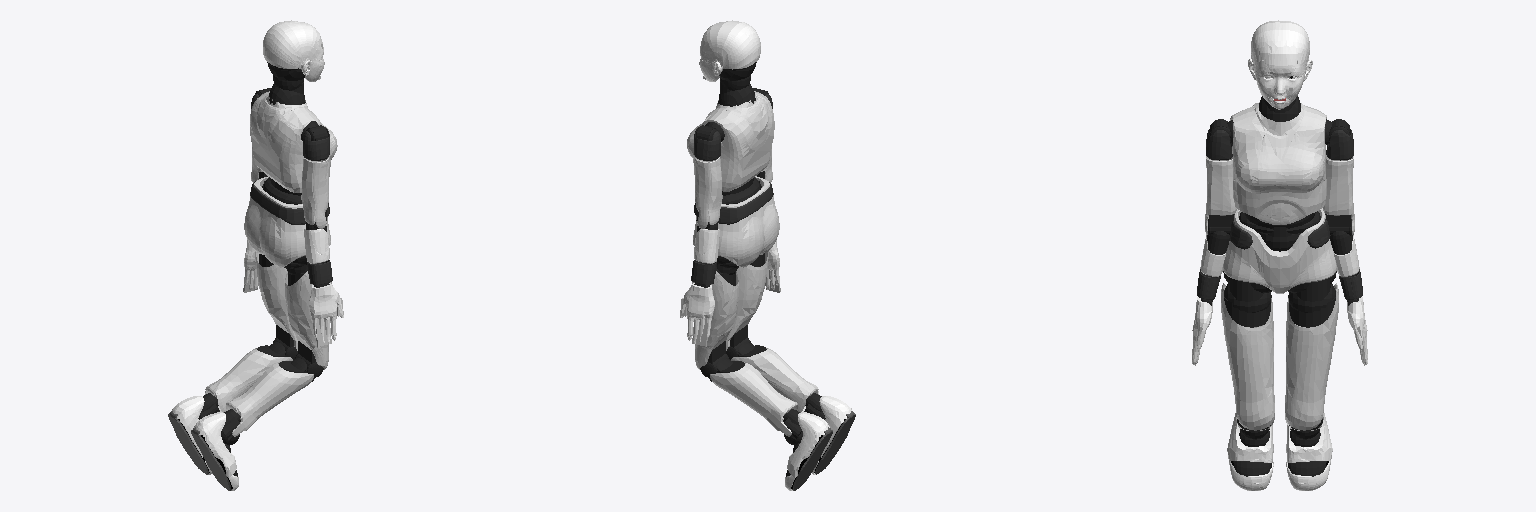
--- Render facts (derived) ---
Views: 3 orthographic renders of the robot side by side, from view 1: azimuth 30°, elevation 25°; view 2: azimuth 150°, elevation 25°; view 3: azimuth 270°, elevation 25°.
Robot: HRP4 — 43 links, 42 joints (42 revolute); root link BODY; default pose: joints at zero except 2 at the middle of their limits (L_KNEE_P = 1.09, R_KNEE_P = 1.09).
Visible links, largest first — view 1: CHEST_Y_LINK, BODY, R_KNEE_P_LINK, NECK_P_LINK, L_KNEE_P_LINK, R_HIP_P_LINK, R_ANKLE_R_LINK, L_HIP_P_LINK, R_SHOULDER_Y_LINK, L_ANKLE_R_LINK, R_WRIST_R_LINK, R_ELBOW_P_LINK (+2 smaller); view 2: CHEST_Y_LINK, BODY, L_KNEE_P_LINK, NECK_P_LINK, R_KNEE_P_LINK, L_HIP_P_LINK, L_ANKLE_R_LINK, R_HIP_P_LINK, L_SHOULDER_Y_LINK, R_ANKLE_R_LINK, L_WRIST_R_LINK, L_ELBOW_P_LINK (+2 smaller); view 3: CHEST_Y_LINK, BODY, L_HIP_P_LINK, R_HIP_P_LINK, NECK_P_LINK, L_ANKLE_R_LINK, R_ANKLE_R_LINK, L_SHOULDER_Y_LINK, R_SHOULDER_Y_LINK, L_ELBOW_P_LINK, R_ELBOW_P_LINK, L_WRIST_R_LINK (+7 smaller).
Link boxes in pixels (x1,y1,x2,y2): CHEST_Y_LINK: (250,84,337,195); BODY: (244,176,330,268); R_KNEE_P_LINK: (221,354,323,440); NECK_P_LINK: (263,20,323,81); L_KNEE_P_LINK: (200,338,297,417); R_HIP_P_LINK: (285,271,331,369); R_ANKLE_R_LINK: (191,412,238,490); L_HIP_P_LINK: (255,251,297,350); R_SHOULDER_Y_LINK: (301,158,328,228); L_ANKLE_R_LINK: (168,396,212,474); R_WRIST_R_LINK: (309,283,343,343); R_ELBOW_P_LINK: (304,222,329,263); CHEST_Y_LINK: (687,84,774,195); BODY: (693,176,779,268); L_KNEE_P_LINK: (700,354,801,440); NECK_P_LINK: (700,20,760,81); R_KNEE_P_LINK: (726,338,824,417); L_HIP_P_LINK: (692,271,738,369); L_ANKLE_R_LINK: (785,412,832,490); R_HIP_P_LINK: (726,251,768,350); L_SHOULDER_Y_LINK: (695,157,722,228); R_ANKLE_R_LINK: (812,396,855,474); L_WRIST_R_LINK: (680,283,714,343); L_ELBOW_P_LINK: (694,222,719,263); CHEST_Y_LINK: (1230,96,1326,228); BODY: (1223,208,1336,293); L_HIP_P_LINK: (1285,283,1338,430); R_HIP_P_LINK: (1221,283,1274,430); NECK_P_LINK: (1248,20,1312,109); L_ANKLE_R_LINK: (1286,413,1332,490); R_ANKLE_R_LINK: (1227,413,1273,490); L_SHOULDER_Y_LINK: (1323,155,1354,235); R_SHOULDER_Y_LINK: (1205,156,1236,235); L_ELBOW_P_LINK: (1330,231,1359,276); R_ELBOW_P_LINK: (1200,231,1229,276); L_WRIST_R_LINK: (1347,297,1367,363).
Bounding box of the posed robot: 0.516 × 0.4768 × 1.52 m (x, y, z).
Meshes: 43 distinct files referenced, 43 mesh visuals loaded (43 Collada DAE).

The robot description file, URDF, robot "HRP4":
<?xml version="1.0"?>
<robot name="HRP4"
       xmlns:xi="http://www.w3.org/2001/XInclude">
  <link name="BODY">
    <visual>
      <origin xyz="0 0 0.784151" rpy="0 -0 0"/>
      <geometry>
        <mesh filename="package://hrp4c_description/meshes/HRP4Cmain/BODY_mesh.dae" scale="1 1 1" />
      </geometry>
    </visual>
    <collision>
      <origin xyz="0 0 0.784151" rpy="0 -0 0"/>
      <geometry>
        <mesh filename="package://hrp4c_description/meshes/HRP4Cmain/BODY_mesh.dae" scale="1 1 1" />
      </geometry>
    </collision>
    <inertial>
      <mass value="7.64947" />
      <origin xyz="-0.0228556 0.00088722 0.141175" rpy="0 -0 0"/>
      <inertia ixx="0.0627264" ixy="-0.00020122" ixz="0.00128172" iyy="0.0309063" iyz="-0.00084433" izz="0.059522"/>
    </inertial>
  </link>
  <gazebo reference="BODY">
    <mu1>0.9</mu1>
    <mu2>0.9</mu2>
  </gazebo>
  <link name="CHEST_P_LINK">
    <visual>
      <origin xyz="0.01 0 0.197" rpy="0 -0 0"/>
      <geometry>
        <mesh filename="package://hrp4c_description/meshes/HRP4Cmain/CHEST_P_LINK_mesh.dae" scale="1 1 1" />
      </geometry>
    </visual>
    <collision>
      <origin xyz="0.01 0 0.197" rpy="0 -0 0"/>
      <geometry>
        <mesh filename="package://hrp4c_description/meshes/HRP4Cmain/CHEST_P_LINK_mesh.dae" scale="1 1 1" />
      </geometry>
    </collision>
    <inertial>
      <mass value="0.60422" />
      <origin xyz="-0.00431692 0.00595121 -0.00052352" rpy="0 -0 0"/>
      <inertia ixx="0.000480067" ixy="-1.508e-05" ixz="-6.5e-07" iyy="0.000307863" iyz="2.39e-06" izz="0.000637985"/>
    </inertial>
  </link>
  <gazebo reference="CHEST_P_LINK">
    <mu1>0.9</mu1>
    <mu2>0.9</mu2>
  </gazebo>
  <link name="CHEST_R_LINK">
    <visual>
      <origin xyz="0 0 0" rpy="0 -0 0"/>
      <geometry>
        <mesh filename="package://hrp4c_description/meshes/HRP4Cmain/CHEST_R_LINK_mesh.dae" scale="1 1 1" />
      </geometry>
    </visual>
    <collision>
      <origin xyz="0 0 0" rpy="0 -0 0"/>
      <geometry>
        <mesh filename="package://hrp4c_description/meshes/HRP4Cmain/CHEST_R_LINK_mesh.dae" scale="1 1 1" />
      </geometry>
    </collision>
    <inertial>
      <mass value="1.17303" />
      <origin xyz="-0.0166766 2e-08 0.0499313" rpy="0 -0 0"/>
      <inertia ixx="0.00156518" ixy="-2.8e-07" ixz="-0.00048566" iyy="0.00238908" iyz="-2.64063e-19" izz="0.00154583"/>
    </inertial>
  </link>
  <gazebo reference="CHEST_R_LINK">
    <mu1>0.9</mu1>
    <mu2>0.9</mu2>
  </gazebo>
  <link name="CHEST_Y_LINK">
    <visual>
      <origin xyz="0 0 0" rpy="0 -0 0"/>
      <geometry>
        <mesh filename="package://hrp4c_description/meshes/HRP4Cmain/CHEST_Y_LINK_mesh.dae" scale="1 1 1" />
      </geometry>
    </visual>
    <collision>
      <origin xyz="0 0 0" rpy="0 -0 0"/>
      <geometry>
        <mesh filename="package://hrp4c_description/meshes/HRP4Cmain/CHEST_Y_LINK_mesh.dae" scale="1 1 1" />
      </geometry>
    </collision>
    <inertial>
      <mass value="7.06687" />
      <origin xyz="-0.0271791 -0.00315907 0.204679" rpy="0 -0 0"/>
      <inertia ixx="0.0667947" ixy="-8.608e-05" ixz="0.00538019" iyy="0.0542495" iyz="-0.00036618" izz="0.0384864"/>
    </inertial>
  </link>
  <gazebo reference="CHEST_Y_LINK">
    <mu1>0.9</mu1>
    <mu2>0.9</mu2>
  </gazebo>
  <link name="L_SHOULDER_P_LINK">
    <visual>
      <origin xyz="-0.04 0.16 0.285" rpy="0 -0 0"/>
      <geometry>
        <mesh filename="package://hrp4c_description/meshes/HRP4Cmain/L_SHOULDER_P_LINK_mesh.dae" scale="1 1 1" />
      </geometry>
    </visual>
    <collision>
      <origin xyz="-0.04 0.16 0.285" rpy="0 -0 0"/>
      <geometry>
        <mesh filename="package://hrp4c_description/meshes/HRP4Cmain/L_SHOULDER_P_LINK_mesh.dae" scale="1 1 1" />
      </geometry>
    </collision>
    <inertial>
      <mass value="0.411823" />
      <origin xyz="0.00162613 -0.0352711 -0.00032585" rpy="0 -0 0"/>
      <inertia ixx="0.000363816" ixy="-8e-08" ixz="5.8e-07" iyy="0.000136285" iyz="-2.99e-06" izz="0.000366957"/>
    </inertial>
  </link>
  <gazebo reference="L_SHOULDER_P_LINK">
    <mu1>0.9</mu1>
    <mu2>0.9</mu2>
  </gazebo>
  <link name="L_SHOULDER_R_LINK">
    <visual>
      <origin xyz="0 0 0" rpy="0 -0 0"/>
      <geometry>
        <mesh filename="package://hrp4c_description/meshes/HRP4Cmain/L_SHOULDER_R_LINK_mesh.dae" scale="1 1 1" />
      </geometry>
    </visual>
    <collision>
      <origin xyz="0 0 0" rpy="0 -0 0"/>
      <geometry>
        <mesh filename="package://hrp4c_description/meshes/HRP4Cmain/L_SHOULDER_R_LINK_mesh.dae" scale="1 1 1" />
      </geometry>
    </collision>
    <inertial>
      <mass value="0.575832" />
      <origin xyz="0.00306386 -0.00168295 -0.0438792" rpy="0 -0 0"/>
      <inertia ixx="0.000623439" ixy="-2.87e-06" ixz="-5.836e-05" iyy="0.000683142" iyz="-2.31e-06" izz="0.00020966"/>
    </inertial>
  </link>
  <gazebo reference="L_SHOULDER_R_LINK">
    <mu1>0.9</mu1>
    <mu2>0.9</mu2>
  </gazebo>
  <link name="L_SHOULDER_Y_LINK">
    <visual>
      <origin xyz="0 0 0" rpy="0 -0 0"/>
      <geometry>
        <mesh filename="package://hrp4c_description/meshes/HRP4Cmain/L_SHOULDER_Y_LINK_mesh.dae" scale="1 1 1" />
      </geometry>
    </visual>
    <collision>
      <origin xyz="0 0 0" rpy="0 -0 0"/>
      <geometry>
        <mesh filename="package://hrp4c_description/meshes/HRP4Cmain/L_SHOULDER_Y_LINK_mesh.dae" scale="1 1 1" />
      </geometry>
    </collision>
    <inertial>
      <mass value="1.21844" />
      <origin xyz="-0.00133297 -0.0019273 -0.175796" rpy="0 -0 0"/>
      <inertia ixx="0.00633968" ixy="3.82e-06" ixz="-8.525e-05" iyy="0.00635143" iyz="-0.00019039" izz="0.000633883"/>
    </inertial>
  </link>
  <gazebo reference="L_SHOULDER_Y_LINK">
    <mu1>0.9</mu1>
    <mu2>0.9</mu2>
  </gazebo>
  <link name="L_ELBOW_P_LINK">
    <visual>
      <origin xyz="0 0 -0.283" rpy="0 -0 0"/>
      <geometry>
        <mesh filename="package://hrp4c_description/meshes/HRP4Cmain/L_ELBOW_P_LINK_mesh.dae" scale="1 1 1" />
      </geometry>
    </visual>
    <collision>
      <origin xyz="0 0 -0.283" rpy="0 -0 0"/>
      <geometry>
        <mesh filename="package://hrp4c_description/meshes/HRP4Cmain/L_ELBOW_P_LINK_mesh.dae" scale="1 1 1" />
      </geometry>
    </collision>
    <inertial>
      <mass value="0.338109" />
      <origin xyz="-0.00201792 0.0115728 -0.0651161" rpy="0 -0 0"/>
      <inertia ixx="0.00101444" ixy="1.4e-06" ixz="-7.63e-06" iyy="0.00101444" iyz="0.00011293" izz="0.000110737"/>
    </inertial>
  </link>
  <gazebo reference="L_ELBOW_P_LINK">
    <mu1>0.9</mu1>
    <mu2>0.9</mu2>
  </gazebo>
  <link name="L_WRIST_Y_LINK">
    <visual>
      <origin xyz="0 0 0" rpy="0.174533 -0 0"/>
      <geometry>
        <mesh filename="package://hrp4c_description/meshes/HRP4Cmain/L_WRIST_Y_LINK_mesh.dae" scale="1 1 1" />
      </geometry>
    </visual>
    <collision>
      <origin xyz="0 0 0" rpy="0.174533 -0 0"/>
      <geometry>
        <mesh filename="package://hrp4c_description/meshes/HRP4Cmain/L_WRIST_Y_LINK_mesh.dae" scale="1 1 1" />
      </geometry>
    </collision>
    <inertial>
      <mass value="0.217653" />
      <origin xyz="-0.00746639 4.7e-06 -0.187222" rpy="0 -0 0"/>
      <inertia ixx="0.00013353" ixy="3e-08" ixz="1.088e-05" iyy="0.00016335" iyz="1.3e-07" izz="5.586e-05"/>
    </inertial>
  </link>
  <gazebo reference="L_WRIST_Y_LINK">
    <mu1>0.9</mu1>
    <mu2>0.9</mu2>
  </gazebo>
  <link name="L_WRIST_R_LINK">
    <visual>
      <origin xyz="0 0 -0.222445" rpy="0 -0 0"/>
      <geometry>
        <mesh filename="package://hrp4c_description/meshes/HRP4Cmain/L_WRIST_R_LINK_mesh.dae" scale="1 1 1" />
      </geometry>
    </visual>
    <collision>
      <origin xyz="0 0 -0.222445" rpy="0 -0 0"/>
      <geometry>
        <mesh filename="package://hrp4c_description/meshes/HRP4Cmain/L_WRIST_R_LINK_mesh.dae" scale="1 1 1" />
      </geometry>
    </collision>
    <inertial>
      <mass value="0.0134204" />
      <origin xyz="0.0039155 3e-08 -0.0027439" rpy="0 -0 0"/>
      <inertia ixx="-2.18376e-22" ixy="-3.83884e-22" ixz="1.4e-07" iyy="3.1e-07" iyz="2.14807e-22" izz="2.1e-07"/>
    </inertial>
  </link>
  <gazebo reference="L_WRIST_R_LINK">
    <mu1>0.9</mu1>
    <mu2>0.9</mu2>
  </gazebo>
  <link name="L_HAND_J0_LINK">
    <visual>
      <origin xyz="0.025 0.0046 -0.0526" rpy="0 -0 0"/>
      <geometry>
        <mesh filename="package://hrp4c_description/meshes/HRP4Cmain/L_HAND_J0_LINK_mesh.dae" scale="1 1 1" />
      </geometry>
    </visual>
    <collision>
      <origin xyz="0.025 0.0046 -0.0526" rpy="0 -0 0"/>
      <geometry>
        <mesh filename="package://hrp4c_description/meshes/HRP4Cmain/L_HAND_J0_LINK_mesh.dae" scale="1 1 1" />
      </geometry>
    </collision>
    <inertial>
      <mass value="0.0894" />
      <origin xyz="-0.033 -2.77556e-17 -0.02" rpy="0 -0 0"/>
      <inertia ixx="3.576e-05" ixy="5.1726e-20" ixz="-5.9e-05" iyy="0.00013312" iyz="-8.98065e-25" izz="9.736e-05"/>
    </inertial>
  </link>
  <gazebo reference="L_HAND_J0_LINK">
    <mu1>0.9</mu1>
    <mu2>0.9</mu2>
  </gazebo>
  <link name="L_HAND_J1_LINK">
    <visual>
      <origin xyz="-0.009 0 -0.0959" rpy="0 -0 0"/>
      <geometry>
        <mesh filename="package://hrp4c_description/meshes/HRP4Cmain/L_HAND_J1_LINK_mesh.dae" scale="1 1 1" />
      </geometry>
    </visual>
    <collision>
      <origin xyz="-0.009 0 -0.0959" rpy="0 -0 0"/>
      <geometry>
        <mesh filename="package://hrp4c_description/meshes/HRP4Cmain/L_HAND_J1_LINK_mesh.dae" scale="1 1 1" />
      </geometry>
    </collision>
    <inertial>
      <mass value="0.3576" />
      <origin xyz="-0.017 0 -0.062" rpy="0 -0 0"/>
      <inertia ixx="0.00137461" ixy="7.91223e-20" ixz="-0.00037691" iyy="0.00147796" iyz="6.3465e-19" izz="0.00010335"/>
    </inertial>
  </link>
  <gazebo reference="L_HAND_J1_LINK">
    <mu1>0.9</mu1>
    <mu2>0.9</mu2>
  </gazebo>
  <link name="NECK_Y_LINK">
    <visual>
      <origin xyz="-0.04 0 0.434" rpy="0 -0 0"/>
      <geometry>
        <mesh filename="package://hrp4c_description/meshes/HRP4Cmain/NECK_Y_LINK_mesh.dae" scale="1 1 1" />
      </geometry>
    </visual>
    <collision>
      <origin xyz="-0.04 0 0.434" rpy="0 -0 0"/>
      <geometry>
        <mesh filename="package://hrp4c_description/meshes/HRP4Cmain/NECK_Y_LINK_mesh.dae" scale="1 1 1" />
      </geometry>
    </collision>
    <inertial>
      <mass value="0.339107" />
      <origin xyz="-0.00096033 0.00755251 -0.0459711" rpy="0 -0 0"/>
      <inertia ixx="0.00017816" ixy="5.06e-06" ixz="-5.63e-06" iyy="0.00018286" iyz="-1.05e-06" izz="0.00017778"/>
    </inertial>
  </link>
  <gazebo reference="NECK_Y_LINK">
    <mu1>0.9</mu1>
    <mu2>0.9</mu2>
  </gazebo>
  <link name="NECK_R_LINK">
    <visual>
      <origin xyz="0 0 0" rpy="0 -0 0"/>
      <geometry>
        <mesh filename="package://hrp4c_description/meshes/HRP4Cmain/NECK_R_LINK_mesh.dae" scale="1 1 1" />
      </geometry>
    </visual>
    <collision>
      <origin xyz="0 0 0" rpy="0 -0 0"/>
      <geometry>
        <mesh filename="package://hrp4c_description/meshes/HRP4Cmain/NECK_R_LINK_mesh.dae" scale="1 1 1" />
      </geometry>
    </collision>
    <inertial>
      <mass value="0.248472" />
      <origin xyz="-0.00874639 0.00266105 -9.1e-07" rpy="0 -0 0"/>
      <inertia ixx="4.275e-05" ixy="5.79e-06" ixz="-4.1359e-24" iyy="9.459e-05" iyz="1e-08" izz="0.00010951"/>
    </inertial>
  </link>
  <gazebo reference="NECK_R_LINK">
    <mu1>0.9</mu1>
    <mu2>0.9</mu2>
  </gazebo>
  <link name="NECK_P_LINK">
    <visual>
      <origin xyz="0 0 0" rpy="0 -0 0"/>
      <geometry>
        <mesh filename="package://hrp4c_description/meshes/HRP4Cmain/NECK_P_LINK_mesh.dae" scale="1 1 1" />
      </geometry>
    </visual>
    <collision>
      <origin xyz="0 0 0" rpy="0 -0 0"/>
      <geometry>
        <mesh filename="package://hrp4c_description/meshes/HRP4Cmain/NECK_P_LINK_mesh.dae" scale="1 1 1" />
      </geometry>
    </collision>
    <inertial>
      <mass value="0.0201469" />
      <origin xyz="-0.00165369 -0.00587094 0.0161225" rpy="0 -0 0"/>
      <inertia ixx="7.45e-06" ixy="1.2e-07" ixz="2.5e-07" iyy="3.96e-06" iyz="-1.33e-06" izz="4.76e-06"/>
    </inertial>
  </link>
  <gazebo reference="NECK_P_LINK">
    <mu1>0.9</mu1>
    <mu2>0.9</mu2>
  </gazebo>
  <link name="CHEEK_P_LINK">
    <visual>
      <origin xyz="-0.0265164 0 0.0255761" rpy="0 -0 0"/>
      <geometry>
        <mesh filename="package://hrp4c_description/meshes/HRP4Cmain/CHEEK_P_LINK_mesh.dae" scale="1 1 1" />
      </geometry>
    </visual>
    <collision>
      <origin xyz="-0.0265164 0 0.0255761" rpy="0 -0 0"/>
      <geometry>
        <mesh filename="package://hrp4c_description/meshes/HRP4Cmain/CHEEK_P_LINK_mesh.dae" scale="1 1 1" />
      </geometry>
    </collision>
    <inertial>
      <mass value="0.3735" />
      <origin xyz="0.06 0 0.012" rpy="0 -0 0"/>
      <inertia ixx="5.378e-05" ixy="-4.65755e-19" ixz="-0.00026892" iyy="0.00139838" iyz="-2.51229e-25" izz="0.0013446"/>
    </inertial>
  </link>
  <gazebo reference="CHEEK_P_LINK">
    <mu1>0.9</mu1>
    <mu2>0.9</mu2>
  </gazebo>
  <link name="EYEBROW_P_LINK">
    <visual>
      <origin xyz="-0.0357313 0 0.0900806" rpy="0 -0 0"/>
      <geometry>
        <mesh filename="package://hrp4c_description/meshes/HRP4Cmain/EYEBROW_P_LINK_mesh.dae" scale="1 1 1" />
      </geometry>
    </visual>
    <collision>
      <origin xyz="-0.0357313 0 0.0900806" rpy="0 -0 0"/>
      <geometry>
        <mesh filename="package://hrp4c_description/meshes/HRP4Cmain/EYEBROW_P_LINK_mesh.dae" scale="1 1 1" />
      </geometry>
    </collision>
    <inertial>
      <mass value="0.3735" />
      <origin xyz="0.108 0 0.009" rpy="0 -0 0"/>
      <inertia ixx="3.025e-05" ixy="-6.08786e-19" ixz="-0.00036304" iyy="0.00438676" iyz="-3.65615e-26" izz="0.0043565"/>
    </inertial>
  </link>
  <gazebo reference="EYEBROW_P_LINK">
    <mu1>0.9</mu1>
    <mu2>0.9</mu2>
  </gazebo>
  <link name="EYELID_P_LINK">
    <visual>
      <origin xyz="0.082 0.0315 0.0596149" rpy="0 -0 0"/>
      <geometry>
        <mesh filename="package://hrp4c_description/meshes/HRP4Cmain/EYELID_P_LINK_mesh.dae" scale="1 1 1" />
      </geometry>
    </visual>
    <collision>
      <origin xyz="0.082 0.0315 0.0596149" rpy="0 -0 0"/>
      <geometry>
        <mesh filename="package://hrp4c_description/meshes/HRP4Cmain/EYELID_P_LINK_mesh.dae" scale="1 1 1" />
      </geometry>
    </collision>
    <inertial>
      <mass value="0.3735" />
      <origin xyz="0.012 0 -0.021" rpy="0 -0 0"/>
      <inertia ixx="0.00016471" ixy="0" ixz="9.412e-05" iyy="0.0002185" iyz="0" izz="5.378e-05"/>
    </inertial>
  </link>
  <gazebo reference="EYELID_P_LINK">
    <mu1>0.9</mu1>
    <mu2>0.9</mu2>
  </gazebo>
  <link name="EYE_P_LINK">
    <visual>
      <origin xyz="0.0816179 0.0315 0.0596149" rpy="0 -0 0"/>
      <geometry>
        <mesh filename="package://hrp4c_description/meshes/HRP4Cmain/EYE_P_LINK_mesh.dae" scale="1 1 1" />
      </geometry>
    </visual>
    <collision>
      <origin xyz="0.0816179 0.0315 0.0596149" rpy="0 -0 0"/>
      <geometry>
        <mesh filename="package://hrp4c_description/meshes/HRP4Cmain/EYE_P_LINK_mesh.dae" scale="1 1 1" />
      </geometry>
    </collision>
    <inertial>
      <mass value="0.3735" />
      <origin xyz="0.021 0 0" rpy="0 -0 0"/>
      <inertia ixx="0" ixy="0" ixz="0" iyy="0.00016471" iyz="0" izz="0.00016471"/>
    </inertial>
  </link>
  <gazebo reference="EYE_P_LINK">
    <mu1>0.9</mu1>
    <mu2>0.9</mu2>
  </gazebo>
  <link name="EYE_Y_LINK">
    <visual>
      <origin xyz="0 0 0" rpy="0 -0 0"/>
      <geometry>
        <mesh filename="package://hrp4c_description/meshes/HRP4Cmain/EYE_Y_LINK_mesh.dae" scale="1 1 1" />
      </geometry>
    </visual>
    <collision>
      <origin xyz="0 0 0" rpy="0 -0 0"/>
      <geometry>
        <mesh filename="package://hrp4c_description/meshes/HRP4Cmain/EYE_Y_LINK_mesh.dae" scale="1 1 1" />
      </geometry>
    </collision>
    <inertial>
      <mass value="0.3735" />
      <origin xyz="0.021 0 0" rpy="0 -0 0"/>
      <inertia ixx="0" ixy="0" ixz="0" iyy="0.00016471" iyz="0" izz="0.00016471"/>
    </inertial>
  </link>
  <gazebo reference="EYE_Y_LINK">
    <mu1>0.9</mu1>
    <mu2>0.9</mu2>
  </gazebo>
  <link name="MOUTH_P_LINK">
    <visual>
      <origin xyz="0.0389284 0 0.00507761" rpy="0 -0 0"/>
      <geometry>
        <mesh filename="package://hrp4c_description/meshes/HRP4Cmain/MOUTH_P_LINK_mesh.dae" scale="1 1 1" />
      </geometry>
    </visual>
    <collision>
      <origin xyz="0.0389284 0 0.00507761" rpy="0 -0 0"/>
      <geometry>
        <mesh filename="package://hrp4c_description/meshes/HRP4Cmain/MOUTH_P_LINK_mesh.dae" scale="1 1 1" />
      </geometry>
    </collision>
    <inertial>
      <mass value="0.3735" />
      <origin xyz="0.057 0 -0.027" rpy="0 -0 0"/>
      <inertia ixx="0.00027228" ixy="9.19116e-19" ixz="0.00057482" iyy="0.00148578" iyz="-3.14032e-19" izz="0.0012135"/>
    </inertial>
  </link>
  <gazebo reference="MOUTH_P_LINK">
    <mu1>0.9</mu1>
    <mu2>0.9</mu2>
  </gazebo>
  <link name="LOWERLIP_P_LINK">
    <visual>
      <origin xyz="0.0573582 0 -0.0274567" rpy="0 -0 0"/>
      <geometry>
        <mesh filename="package://hrp4c_description/meshes/HRP4Cmain/LOWERLIP_P_LINK_mesh.dae" scale="1 1 1" />
      </geometry>
    </visual>
    <collision>
      <origin xyz="0.0573582 0 -0.0274567" rpy="0 -0 0"/>
      <geometry>
        <mesh filename="package://hrp4c_description/meshes/HRP4Cmain/LOWERLIP_P_LINK_mesh.dae" scale="1 1 1" />
      </geometry>
    </collision>
    <inertial>
      <mass value="0.3735" />
      <origin xyz="0.009 0 0.012" rpy="0 -0 0"/>
      <inertia ixx="5.378e-05" ixy="3.32816e-18" ixz="-0.00040338" iyy="0.00307913" iyz="1.36141e-18" izz="0.00302535"/>
    </inertial>
  </link>
  <gazebo reference="LOWERLIP_P_LINK">
    <mu1>0.9</mu1>
    <mu2>0.9</mu2>
  </gazebo>
  <link name="UPPERLIP_P_LINK">
    <visual>
      <origin xyz="0.102 0 0.012" rpy="0 -0 0"/>
      <geometry>
        <mesh filename="package://hrp4c_description/meshes/HRP4Cmain/UPPERLIP_P_LINK_mesh.dae" scale="1 1 1" />
      </geometry>
    </visual>
    <collision>
      <origin xyz="0.102 0 0.012" rpy="0 -0 0"/>
      <geometry>
        <mesh filename="package://hrp4c_description/meshes/HRP4Cmain/UPPERLIP_P_LINK_mesh.dae" scale="1 1 1" />
      </geometry>
    </collision>
    <inertial>
      <mass value="0.3735" />
      <origin xyz="0.009 0 -0.012" rpy="0 -0 0"/>
      <inertia ixx="5.378e-05" ixy="-2.51934e-20" ixz="4.034e-05" iyy="8.404e-05" iyz="4.75879e-20" izz="3.025e-05"/>
    </inertial>
  </link>
  <gazebo reference="UPPERLIP_P_LINK">
    <mu1>0.9</mu1>
    <mu2>0.9</mu2>
  </gazebo>
  <link name="R_SHOULDER_P_LINK">
    <visual>
      <origin xyz="-0.04 -0.16 0.285" rpy="0 -0 0"/>
      <geometry>
        <mesh filename="package://hrp4c_description/meshes/HRP4Cmain/R_SHOULDER_P_LINK_mesh.dae" scale="1 1 1" />
      </geometry>
    </visual>
    <collision>
      <origin xyz="-0.04 -0.16 0.285" rpy="0 -0 0"/>
      <geometry>
        <mesh filename="package://hrp4c_description/meshes/HRP4Cmain/R_SHOULDER_P_LINK_mesh.dae" scale="1 1 1" />
      </geometry>
    </collision>
    <inertial>
      <mass value="0.41205" />
      <origin xyz="0.00162613 0.0352711 0.00032585" rpy="0 -0 0"/>
      <inertia ixx="0.000364016" ixy="8e-08" ixz="-5.8e-07" iyy="0.00013636" iyz="-2.99e-06" izz="0.000367159"/>
    </inertial>
  </link>
  <gazebo reference="R_SHOULDER_P_LINK">
    <mu1>0.9</mu1>
    <mu2>0.9</mu2>
  </gazebo>
  <link name="R_SHOULDER_R_LINK">
    <visual>
      <origin xyz="0 0 0" rpy="0 -0 0"/>
      <geometry>
        <mesh filename="package://hrp4c_description/meshes/HRP4Cmain/R_SHOULDER_R_LINK_mesh.dae" scale="1 1 1" />
      </geometry>
    </visual>
    <collision>
      <origin xyz="0 0 0" rpy="0 -0 0"/>
      <geometry>
        <mesh filename="package://hrp4c_description/meshes/HRP4Cmain/R_SHOULDER_R_LINK_mesh.dae" scale="1 1 1" />
      </geometry>
    </collision>
    <inertial>
      <mass value="0.578106" />
      <origin xyz="0.00306386 -0.00168295 -0.0438792" rpy="0 -0 0"/>
      <inertia ixx="0.0006259" ixy="-2.87e-06" ixz="-5.836e-05" iyy="0.000685839" iyz="-2.31e-06" izz="0.000210487"/>
    </inertial>
  </link>
  <gazebo reference="R_SHOULDER_R_LINK">
    <mu1>0.9</mu1>
    <mu2>0.9</mu2>
  </gazebo>
  <link name="R_SHOULDER_Y_LINK">
    <visual>
      <origin xyz="0 0 0" rpy="0 -0 0"/>
      <geometry>
        <mesh filename="package://hrp4c_description/meshes/HRP4Cmain/R_SHOULDER_Y_LINK_mesh.dae" scale="1 1 1" />
      </geometry>
    </visual>
    <collision>
      <origin xyz="0 0 0" rpy="0 -0 0"/>
      <geometry>
        <mesh filename="package://hrp4c_description/meshes/HRP4Cmain/R_SHOULDER_Y_LINK_mesh.dae" scale="1 1 1" />
      </geometry>
    </collision>
    <inertial>
      <mass value="1.20104" />
      <origin xyz="-0.00133297 -0.0019273 -0.175796" rpy="0 -0 0"/>
      <inertia ixx="0.00624912" ixy="3.82e-06" ixz="-8.525e-05" iyy="0.0062607" iyz="-0.00019039" izz="0.000624828"/>
    </inertial>
  </link>
  <gazebo reference="R_SHOULDER_Y_LINK">
    <mu1>0.9</mu1>
    <mu2>0.9</mu2>
  </gazebo>
  <link name="R_ELBOW_P_LINK">
    <visual>
      <origin xyz="0 0 -0.283" rpy="0 -0 0"/>
      <geometry>
        <mesh filename="package://hrp4c_description/meshes/HRP4Cmain/R_ELBOW_P_LINK_mesh.dae" scale="1 1 1" />
      </geometry>
    </visual>
    <collision>
      <origin xyz="0 0 -0.283" rpy="0 -0 0"/>
      <geometry>
        <mesh filename="package://hrp4c_description/meshes/HRP4Cmain/R_ELBOW_P_LINK_mesh.dae" scale="1 1 1" />
      </geometry>
    </collision>
    <inertial>
      <mass value="0.347514" />
      <origin xyz="-0.00193431 -0.010183 -0.0650965" rpy="0 -0 0"/>
      <inertia ixx="0.00105405" ixy="-1.46e-06" ixz="-7.2e-06" iyy="0.00104137" iyz="-0.00013652" izz="0.000126153"/>
    </inertial>
  </link>
  <gazebo reference="R_ELBOW_P_LINK">
    <mu1>0.9</mu1>
    <mu2>0.9</mu2>
  </gazebo>
  <link name="R_WRIST_Y_LINK">
    <visual>
      <origin xyz="0 0 0" rpy="-0.174533 0 0"/>
      <geometry>
        <mesh filename="package://hrp4c_description/meshes/HRP4Cmain/R_WRIST_Y_LINK_mesh.dae" scale="1 1 1" />
      </geometry>
    </visual>
    <collision>
      <origin xyz="0 0 0" rpy="-0.174533 0 0"/>
      <geometry>
        <mesh filename="package://hrp4c_description/meshes/HRP4Cmain/R_WRIST_Y_LINK_mesh.dae" scale="1 1 1" />
      </geometry>
    </collision>
    <inertial>
      <mass value="0.271653" />
      <origin xyz="-0.00746639 4.7e-06 -0.187222" rpy="0 -0 0"/>
      <inertia ixx="0.000166659" ixy="3e-08" ixz="1.088e-05" iyy="0.000199809" iyz="1.3e-07" izz="7.37877e-05"/>
    </inertial>
  </link>
  <gazebo reference="R_WRIST_Y_LINK">
    <mu1>0.9</mu1>
    <mu2>0.9</mu2>
  </gazebo>
  <link name="R_WRIST_R_LINK">
    <visual>
      <origin xyz="0 0 -0.222445" rpy="0 -0 0"/>
      <geometry>
        <mesh filename="package://hrp4c_description/meshes/HRP4Cmain/R_WRIST_R_LINK_mesh.dae" scale="1 1 1" />
      </geometry>
    </visual>
    <collision>
      <origin xyz="0 0 -0.222445" rpy="0 -0 0"/>
      <geometry>
        <mesh filename="package://hrp4c_description/meshes/HRP4Cmain/R_WRIST_R_LINK_mesh.dae" scale="1 1 1" />
      </geometry>
    </collision>
    <inertial>
      <mass value="0.0134204" />
      <origin xyz="0.0039155 3e-08 -0.0027439" rpy="0 -0 0"/>
      <inertia ixx="-2.24993e-22" ixy="-3.72143e-22" ixz="1.4e-07" iyy="3.1e-07" iyz="2.2977e-22" izz="2.1e-07"/>
    </inertial>
  </link>
  <gazebo reference="R_WRIST_R_LINK">
    <mu1>0.9</mu1>
    <mu2>0.9</mu2>
  </gazebo>
  <link name="R_HAND_J0_LINK">
    <visual>
      <origin xyz="0.025 -0.0046 -0.0526" rpy="0 -0 0"/>
      <geometry>
        <mesh filename="package://hrp4c_description/meshes/HRP4Cmain/R_HAND_J0_LINK_mesh.dae" scale="1 1 1" />
      </geometry>
    </visual>
    <collision>
      <origin xyz="0.025 -0.0046 -0.0526" rpy="0 -0 0"/>
      <geometry>
        <mesh filename="package://hrp4c_description/meshes/HRP4Cmain/R_HAND_J0_LINK_mesh.dae" scale="1 1 1" />
      </geometry>
    </collision>
    <inertial>
      <mass value="0.0894" />
      <origin xyz="-0.033 2.77556e-17 -0.02" rpy="0 -0 0"/>
      <inertia ixx="3.576e-05" ixy="4.43366e-20" ixz="-5.9e-05" iyy="0.00013312" iyz="-7.6977e-25" izz="9.736e-05"/>
    </inertial>
  </link>
  <gazebo reference="R_HAND_J0_LINK">
    <mu1>0.9</mu1>
    <mu2>0.9</mu2>
  </gazebo>
  <link name="R_HAND_J1_LINK">
    <visual>
      <origin xyz="-0.009 0 -0.0959" rpy="0 -0 0"/>
      <geometry>
        <mesh filename="package://hrp4c_description/meshes/HRP4Cmain/R_HAND_J1_LINK_mesh.dae" scale="1 1 1" />
      </geometry>
    </visual>
    <collision>
      <origin xyz="-0.009 0 -0.0959" rpy="0 -0 0"/>
      <geometry>
        <mesh filename="package://hrp4c_description/meshes/HRP4Cmain/R_HAND_J1_LINK_mesh.dae" scale="1 1 1" />
      </geometry>
    </collision>
    <inertial>
      <mass value="0.3576" />
      <origin xyz="-0.017 0 -0.062" rpy="0 -0 0"/>
      <inertia ixx="0.00137461" ixy="-1.90512e-25" ixz="-0.00037691" iyy="0.00147796" iyz="3.28172e-19" izz="0.00010335"/>
    </inertial>
  </link>
  <gazebo reference="R_HAND_J1_LINK">
    <mu1>0.9</mu1>
    <mu2>0.9</mu2>
  </gazebo>
  <link name="L_HIP_Y_LINK">
    <visual>
      <origin xyz="0 0.0875 0" rpy="0 -0 0"/>
      <geometry>
        <mesh filename="package://hrp4c_description/meshes/HRP4Cmain/L_HIP_Y_LINK_mesh.dae" scale="1 1 1" />
      </geometry>
    </visual>
    <collision>
      <origin xyz="0 0.0875 0" rpy="0 -0 0"/>
      <geometry>
        <mesh filename="package://hrp4c_description/meshes/HRP4Cmain/L_HIP_Y_LINK_mesh.dae" scale="1 1 1" />
      </geometry>
    </collision>
    <inertial>
      <mass value="1.17303" />
      <origin xyz="-0.0166766 2e-08 0.0499313" rpy="0 -0 0"/>
      <inertia ixx="0.00156518" ixy="-2.8e-07" ixz="-0.00048566" iyy="0.00238908" iyz="-2.64063e-19" izz="0.00154583"/>
    </inertial>
  </link>
  <gazebo reference="L_HIP_Y_LINK">
    <mu1>0.9</mu1>
    <mu2>0.9</mu2>
  </gazebo>
  <link name="L_HIP_R_LINK">
    <visual>
      <origin xyz="0 0 0" rpy="0 -0 0"/>
      <geometry>
        <mesh filename="package://hrp4c_description/meshes/HRP4Cmain/L_HIP_R_LINK_mesh.dae" scale="1 1 1" />
      </geometry>
    </visual>
    <collision>
      <origin xyz="0 0 0" rpy="0 -0 0"/>
      <geometry>
        <mesh filename="package://hrp4c_description/meshes/HRP4Cmain/L_HIP_R_LINK_mesh.dae" scale="1 1 1" />
      </geometry>
    </collision>
    <inertial>
      <mass value="0.60422" />
      <origin xyz="-0.00431692 0.00595121 -0.00052352" rpy="0 -0 0"/>
      <inertia ixx="0.000480067" ixy="-1.508e-05" ixz="-6.5e-07" iyy="0.000307863" iyz="2.39e-06" izz="0.000637985"/>
    </inertial>
  </link>
  <gazebo reference="L_HIP_R_LINK">
    <mu1>0.9</mu1>
    <mu2>0.9</mu2>
  </gazebo>
  <link name="L_HIP_P_LINK">
    <visual>
      <origin xyz="0 0 0" rpy="0 -0 0"/>
      <geometry>
        <mesh filename="package://hrp4c_description/meshes/HRP4Cmain/L_HIP_P_LINK_mesh.dae" scale="1 1 1" />
      </geometry>
    </visual>
    <collision>
      <origin xyz="0 0 0" rpy="0 -0 0"/>
      <geometry>
        <mesh filename="package://hrp4c_description/meshes/HRP4Cmain/L_HIP_P_LINK_mesh.dae" scale="1 1 1" />
      </geometry>
    </collision>
    <inertial>
      <mass value="2.36303" />
      <origin xyz="0.0031818 -0.00497534 -0.185489" rpy="0 -0 0"/>
      <inertia ixx="0.0332538" ixy="7.405e-05" ixz="0.00051692" iyy="0.0321033" iyz="-0.00226711" izz="0.00270107"/>
    </inertial>
  </link>
  <gazebo reference="L_HIP_P_LINK">
    <mu1>0.9</mu1>
    <mu2>0.9</mu2>
  </gazebo>
  <link name="L_KNEE_P_LINK">
    <visual>
      <origin xyz="0 -0.01905 -0.35" rpy="0 -0 0"/>
      <geometry>
        <mesh filename="package://hrp4c_description/meshes/HRP4Cmain/L_KNEE_P_LINK_mesh.dae" scale="1 1 1" />
      </geometry>
    </visual>
    <collision>
      <origin xyz="0 -0.01905 -0.35" rpy="0 -0 0"/>
      <geometry>
        <mesh filename="package://hrp4c_description/meshes/HRP4Cmain/L_KNEE_P_LINK_mesh.dae" scale="1 1 1" />
      </geometry>
    </collision>
    <inertial>
      <mass value="2.21475" />
      <origin xyz="-0.0107415 -0.0001061 -0.153541" rpy="0 -0 0"/>
      <inertia ixx="0.0197133" ixy="8.54e-06" ixz="-0.00022695" iyy="0.0199984" iyz="0.00045369" izz="0.00143296"/>
    </inertial>
  </link>
  <gazebo reference="L_KNEE_P_LINK">
    <mu1>0.9</mu1>
    <mu2>0.9</mu2>
  </gazebo>
  <link name="L_ANKLE_P_LINK">
    <visual>
      <origin xyz="0 0 -0.341151" rpy="0 -0 0"/>
      <geometry>
        <mesh filename="package://hrp4c_description/meshes/HRP4Cmain/L_ANKLE_P_LINK_mesh.dae" scale="1 1 1" />
      </geometry>
    </visual>
    <collision>
      <origin xyz="0 0 -0.341151" rpy="0 -0 0"/>
      <geometry>
        <mesh filename="package://hrp4c_description/meshes/HRP4Cmain/L_ANKLE_P_LINK_mesh.dae" scale="1 1 1" />
      </geometry>
    </collision>
    <inertial>
      <mass value="0.278175" />
      <origin xyz="0.00368911 0.00015844 0.00129883" rpy="0 -0 0"/>
      <inertia ixx="8.40608e-05" ixy="-1.6e-07" ixz="1.33e-06" iyy="0.000161205" iyz="7e-08" izz="0.000179805"/>
    </inertial>
  </link>
  <gazebo reference="L_ANKLE_P_LINK">
    <mu1>0.9</mu1>
    <mu2>0.9</mu2>
  </gazebo>
  <link name="L_ANKLE_R_LINK">
    <visual>
      <origin xyz="0 0 0" rpy="0 -0 0"/>
      <geometry>
        <mesh filename="package://hrp4c_description/meshes/HRP4Cmain/L_ANKLE_R_LINK_mesh.dae" scale="1 1 1" />
      </geometry>
    </visual>
    <collision>
      <origin xyz="0 0 0" rpy="0 -0 0"/>
      <geometry>
        <mesh filename="package://hrp4c_description/meshes/HRP4Cmain/L_ANKLE_R_LINK_mesh.dae" scale="1 1 1" />
      </geometry>
    </collision>
    <inertial>
      <mass value="1.47483" />
      <origin xyz="0.0461517 0.00219566 -0.0640623" rpy="0 -0 0"/>
      <inertia ixx="0.000969695" ixy="-1.58e-06" ixz="-0.00010744" iyy="0.00120373" iyz="4.09e-06" izz="0.000932455"/>
    </inertial>
  </link>
  <gazebo reference="L_ANKLE_R_LINK">
    <mu1>0.9</mu1>
    <mu2>0.9</mu2>
  </gazebo>
  <link name="R_HIP_Y_LINK">
    <visual>
      <origin xyz="0 -0.0875 0" rpy="0 -0 0"/>
      <geometry>
        <mesh filename="package://hrp4c_description/meshes/HRP4Cmain/R_HIP_Y_LINK_mesh.dae" scale="1 1 1" />
      </geometry>
    </visual>
    <collision>
      <origin xyz="0 -0.0875 0" rpy="0 -0 0"/>
      <geometry>
        <mesh filename="package://hrp4c_description/meshes/HRP4Cmain/R_HIP_Y_LINK_mesh.dae" scale="1 1 1" />
      </geometry>
    </collision>
    <inertial>
      <mass value="1.17303" />
      <origin xyz="-0.0166766 2e-08 0.0499313" rpy="0 -0 0"/>
      <inertia ixx="0.00156518" ixy="-2.8e-07" ixz="-0.00048566" iyy="0.00238908" iyz="-2.64063e-19" izz="0.00154583"/>
    </inertial>
  </link>
  <gazebo reference="R_HIP_Y_LINK">
    <mu1>0.9</mu1>
    <mu2>0.9</mu2>
  </gazebo>
  <link name="R_HIP_R_LINK">
    <visual>
      <origin xyz="0 0 0" rpy="0 -0 0"/>
      <geometry>
        <mesh filename="package://hrp4c_description/meshes/HRP4Cmain/R_HIP_R_LINK_mesh.dae" scale="1 1 1" />
      </geometry>
    </visual>
    <collision>
      <origin xyz="0 0 0" rpy="0 -0 0"/>
      <geometry>
        <mesh filename="package://hrp4c_description/meshes/HRP4Cmain/R_HIP_R_LINK_mesh.dae" scale="1 1 1" />
      </geometry>
    </collision>
    <inertial>
      <mass value="0.60422" />
      <origin xyz="-0.00431692 0.00595121 -0.00052352" rpy="0 -0 0"/>
      <inertia ixx="0.000480067" ixy="-1.508e-05" ixz="-6.5e-07" iyy="0.000307863" iyz="2.39e-06" izz="0.000637985"/>
    </inertial>
  </link>
  <gazebo reference="R_HIP_R_LINK">
    <mu1>0.9</mu1>
    <mu2>0.9</mu2>
  </gazebo>
  <link name="R_HIP_P_LINK">
    <visual>
      <origin xyz="0 0 0" rpy="0 -0 0"/>
      <geometry>
        <mesh filename="package://hrp4c_description/meshes/HRP4Cmain/R_HIP_P_LINK_mesh.dae" scale="1 1 1" />
      </geometry>
    </visual>
    <collision>
      <origin xyz="0 0 0" rpy="0 -0 0"/>
      <geometry>
        <mesh filename="package://hrp4c_description/meshes/HRP4Cmain/R_HIP_P_LINK_mesh.dae" scale="1 1 1" />
      </geometry>
    </collision>
    <inertial>
      <mass value="2.3407" />
      <origin xyz="0.00318782 0.0158562 -0.18563" rpy="0 -0 0"/>
      <inertia ixx="0.032736" ixy="-1.208e-05" ixz="0.0005174" iyy="0.0317847" iyz="0.00105777" izz="0.00248556"/>
    </inertial>
  </link>
  <gazebo reference="R_HIP_P_LINK">
    <mu1>0.9</mu1>
    <mu2>0.9</mu2>
  </gazebo>
  <link name="R_KNEE_P_LINK">
    <visual>
      <origin xyz="0 0.01905 -0.35" rpy="0 -0 0"/>
      <geometry>
        <mesh filename="package://hrp4c_description/meshes/HRP4Cmain/R_KNEE_P_LINK_mesh.dae" scale="1 1 1" />
      </geometry>
    </visual>
    <collision>
      <origin xyz="0 0.01905 -0.35" rpy="0 -0 0"/>
      <geometry>
        <mesh filename="package://hrp4c_description/meshes/HRP4Cmain/R_KNEE_P_LINK_mesh.dae" scale="1 1 1" />
      </geometry>
    </collision>
    <inertial>
      <mass value="2.21075" />
      <origin xyz="-0.0107415 -0.0001061 -0.153541" rpy="0 -0 0"/>
      <inertia ixx="0.0196777" ixy="8.54e-06" ixz="-0.00022695" iyy="0.0199623" iyz="0.00045369" izz="0.00143037"/>
    </inertial>
  </link>
  <gazebo reference="R_KNEE_P_LINK">
    <mu1>0.9</mu1>
    <mu2>0.9</mu2>
  </gazebo>
  <link name="R_ANKLE_P_LINK">
    <visual>
      <origin xyz="0 0 -0.341151" rpy="0 -0 0"/>
      <geometry>
        <mesh filename="package://hrp4c_description/meshes/HRP4Cmain/R_ANKLE_P_LINK_mesh.dae" scale="1 1 1" />
      </geometry>
    </visual>
    <collision>
      <origin xyz="0 0 -0.341151" rpy="0 -0 0"/>
      <geometry>
        <mesh filename="package://hrp4c_description/meshes/HRP4Cmain/R_ANKLE_P_LINK_mesh.dae" scale="1 1 1" />
      </geometry>
    </collision>
    <inertial>
      <mass value="0.278175" />
      <origin xyz="0.00368911 0.00015844 0.00129883" rpy="0 -0 0"/>
      <inertia ixx="8.40608e-05" ixy="-1.6e-07" ixz="1.33e-06" iyy="0.000161205" iyz="7e-08" izz="0.000179805"/>
    </inertial>
  </link>
  <gazebo reference="R_ANKLE_P_LINK">
    <mu1>0.9</mu1>
    <mu2>0.9</mu2>
  </gazebo>
  <link name="R_ANKLE_R_LINK">
    <visual>
      <origin xyz="0 0 0" rpy="0 -0 0"/>
      <geometry>
        <mesh filename="package://hrp4c_description/meshes/HRP4Cmain/R_ANKLE_R_LINK_mesh.dae" scale="1 1 1" />
      </geometry>
    </visual>
    <collision>
      <origin xyz="0 0 0" rpy="0 -0 0"/>
      <geometry>
        <mesh filename="package://hrp4c_description/meshes/HRP4Cmain/R_ANKLE_R_LINK_mesh.dae" scale="1 1 1" />
      </geometry>
    </collision>
    <inertial>
      <mass value="1.47483" />
      <origin xyz="0.0461517 -0.00219566 -0.0640623" rpy="0 -0 0"/>
      <inertia ixx="0.000967395" ixy="1.58e-06" ixz="-0.00010744" iyy="0.00120088" iyz="-4.09e-06" izz="0.000930244"/>
    </inertial>
  </link>
  <gazebo reference="R_ANKLE_R_LINK">
    <mu1>0.9</mu1>
    <mu2>0.9</mu2>
  </gazebo>
  <joint name="CHEST_P" type="revolute">
    <parent link="BODY"/>
    <child  link="CHEST_P_LINK"/>
    <origin xyz="0.01 0 0.197" rpy="0 -0 0 "/>
    <axis   xyz="0 1 0"/>
    <limit lower="-0.20944" upper="0.523599" effort="100" velocity="5.41837" />
    <dynamics damping="0.2" friction="0" />
  </joint>
  <transmission type="pr2_mechanism_model/SimpleTransmission" name="CHEST_P_trans" >
    <actuator name="CHEST_P_motor" />
    <joint name="CHEST_P" />
    <mechanicalReduction>1</mechanicalReduction>
  </transmission>
  <gazebo reference="CHEST_P">
    <cfmDamping>0.4</cfmDamping>
  </gazebo>
  <joint name="CHEST_R" type="revolute">
    <parent link="CHEST_P_LINK"/>
    <child  link="CHEST_R_LINK"/>
    <origin xyz="0 0 0" rpy="0 -0 0 "/>
    <axis   xyz="1 0 0"/>
    <limit lower="-0.436332" upper="0.436332" effort="100" velocity="5.45223" />
    <dynamics damping="0.2" friction="0" />
  </joint>
  <transmission type="pr2_mechanism_model/SimpleTransmission" name="CHEST_R_trans" >
    <actuator name="CHEST_R_motor" />
    <joint name="CHEST_R" />
    <mechanicalReduction>1</mechanicalReduction>
  </transmission>
  <gazebo reference="CHEST_R">
    <cfmDamping>0.4</cfmDamping>
  </gazebo>
  <joint name="CHEST_Y" type="revolute">
    <parent link="CHEST_R_LINK"/>
    <child  link="CHEST_Y_LINK"/>
    <origin xyz="0 0 0" rpy="0 -0 0 "/>
    <axis   xyz="0 0 1"/>
    <limit lower="-0.610865" upper="0.610865" effort="100" velocity="5.81572" />
    <dynamics damping="0.2" friction="0" />
  </joint>
  <transmission type="pr2_mechanism_model/SimpleTransmission" name="CHEST_Y_trans" >
    <actuator name="CHEST_Y_motor" />
    <joint name="CHEST_Y" />
    <mechanicalReduction>1</mechanicalReduction>
  </transmission>
  <gazebo reference="CHEST_Y">
    <cfmDamping>0.4</cfmDamping>
  </gazebo>
  <joint name="L_SHOULDER_P" type="revolute">
    <parent link="CHEST_Y_LINK"/>
    <child  link="L_SHOULDER_P_LINK"/>
    <origin xyz="-0.04 0.16 0.285" rpy="0 -0 0 "/>
    <axis   xyz="0 1 0"/>
    <limit lower="-2.56563" upper="1.0472" effort="100" velocity="2.90786" />
    <dynamics damping="0.2" friction="0" />
  </joint>
  <transmission type="pr2_mechanism_model/SimpleTransmission" name="L_SHOULDER_P_trans" >
    <actuator name="L_SHOULDER_P_motor" />
    <joint name="L_SHOULDER_P" />
    <mechanicalReduction>1</mechanicalReduction>
  </transmission>
  <gazebo reference="L_SHOULDER_P">
    <cfmDamping>0.4</cfmDamping>
  </gazebo>
  <joint name="L_SHOULDER_R" type="revolute">
    <parent link="L_SHOULDER_P_LINK"/>
    <child  link="L_SHOULDER_R_LINK"/>
    <origin xyz="0 0 0" rpy="0 -0 0 "/>
    <axis   xyz="1 0 0"/>
    <limit lower="-0.174533" upper="1.55334" effort="100" velocity="2.50925" />
    <dynamics damping="0.2" friction="0" />
  </joint>
  <transmission type="pr2_mechanism_model/SimpleTransmission" name="L_SHOULDER_R_trans" >
    <actuator name="L_SHOULDER_R_motor" />
    <joint name="L_SHOULDER_R" />
    <mechanicalReduction>1</mechanicalReduction>
  </transmission>
  <gazebo reference="L_SHOULDER_R">
    <cfmDamping>0.4</cfmDamping>
  </gazebo>
  <joint name="L_SHOULDER_Y" type="revolute">
    <parent link="L_SHOULDER_R_LINK"/>
    <child  link="L_SHOULDER_Y_LINK"/>
    <origin xyz="0 0 0" rpy="0 -0 0 "/>
    <axis   xyz="0 0 1"/>
    <limit lower="-1.6057" upper="1.6057" effort="100" velocity="5.04791" />
    <dynamics damping="0.2" friction="0" />
  </joint>
  <transmission type="pr2_mechanism_model/SimpleTransmission" name="L_SHOULDER_Y_trans" >
    <actuator name="L_SHOULDER_Y_motor" />
    <joint name="L_SHOULDER_Y" />
    <mechanicalReduction>1</mechanicalReduction>
  </transmission>
  <gazebo reference="L_SHOULDER_Y">
    <cfmDamping>0.4</cfmDamping>
  </gazebo>
  <joint name="L_ELBOW_P" type="revolute">
    <parent link="L_SHOULDER_Y_LINK"/>
    <child  link="L_ELBOW_P_LINK"/>
    <origin xyz="0 0 -0.283" rpy="0 -0 0 "/>
    <axis   xyz="0 1 0"/>
    <limit lower="-2.14675" upper="0.0349066" effort="100" velocity="2.09104" />
    <dynamics damping="0.2" friction="0" />
  </joint>
  <transmission type="pr2_mechanism_model/SimpleTransmission" name="L_ELBOW_P_trans" >
    <actuator name="L_ELBOW_P_motor" />
    <joint name="L_ELBOW_P" />
    <mechanicalReduction>1</mechanicalReduction>
  </transmission>
  <gazebo reference="L_ELBOW_P">
    <cfmDamping>0.4</cfmDamping>
  </gazebo>
  <joint name="L_WRIST_Y" type="revolute">
    <parent link="L_ELBOW_P_LINK"/>
    <child  link="L_WRIST_Y_LINK"/>
    <origin xyz="0 0 0" rpy="0.174533 -0 0 "/>
    <axis   xyz="0 0 1"/>
    <limit lower="-1.6057" upper="1.6057" effort="100" velocity="3.80007" />
    <dynamics damping="0.2" friction="0" />
  </joint>
  <transmission type="pr2_mechanism_model/SimpleTransmission" name="L_WRIST_Y_trans" >
    <actuator name="L_WRIST_Y_motor" />
    <joint name="L_WRIST_Y" />
    <mechanicalReduction>1</mechanicalReduction>
  </transmission>
  <gazebo reference="L_WRIST_Y">
    <cfmDamping>0.4</cfmDamping>
  </gazebo>
  <joint name="L_WRIST_R" type="revolute">
    <parent link="L_WRIST_Y_LINK"/>
    <child  link="L_WRIST_R_LINK"/>
    <origin xyz="0 0 -0.222445" rpy="0 -0 0 "/>
    <axis   xyz="1 0 0"/>
    <limit lower="-1.46608" upper="1.46608" effort="100" velocity="3.80007" />
    <dynamics damping="0.2" friction="0" />
  </joint>
  <transmission type="pr2_mechanism_model/SimpleTransmission" name="L_WRIST_R_trans" >
    <actuator name="L_WRIST_R_motor" />
    <joint name="L_WRIST_R" />
    <mechanicalReduction>1</mechanicalReduction>
  </transmission>
  <gazebo reference="L_WRIST_R">
    <cfmDamping>0.4</cfmDamping>
  </gazebo>
  <joint name="L_HAND_J0" type="revolute">
    <parent link="L_WRIST_R_LINK"/>
    <child  link="L_HAND_J0_LINK"/>
    <origin xyz="0.025 0.0046 -0.0526" rpy="0 -0 0 "/>
    <axis   xyz="0 0 1"/>
    <limit lower="-1.5708" upper="0" effort="100" velocity="14.6402" />
    <dynamics damping="0.2" friction="0" />
  </joint>
  <transmission type="pr2_mechanism_model/SimpleTransmission" name="L_HAND_J0_trans" >
    <actuator name="L_HAND_J0_motor" />
    <joint name="L_HAND_J0" />
    <mechanicalReduction>1</mechanicalReduction>
  </transmission>
  <gazebo reference="L_HAND_J0">
    <cfmDamping>0.4</cfmDamping>
  </gazebo>
  <joint name="L_HAND_J1" type="revolute">
    <parent link="L_WRIST_R_LINK"/>
    <child  link="L_HAND_J1_LINK"/>
    <origin xyz="-0.009 0 -0.0959" rpy="0 -0 0 "/>
    <axis   xyz="1 0 0"/>
    <limit lower="-1.5708" upper="0.349066" effort="100" velocity="16.0127" />
    <dynamics damping="0.2" friction="0" />
  </joint>
  <transmission type="pr2_mechanism_model/SimpleTransmission" name="L_HAND_J1_trans" >
    <actuator name="L_HAND_J1_motor" />
    <joint name="L_HAND_J1" />
    <mechanicalReduction>1</mechanicalReduction>
  </transmission>
  <gazebo reference="L_HAND_J1">
    <cfmDamping>0.4</cfmDamping>
  </gazebo>
  <joint name="NECK_Y" type="revolute">
    <parent link="CHEST_Y_LINK"/>
    <child  link="NECK_Y_LINK"/>
    <origin xyz="-0.04 0 0.434" rpy="0 -0 0 "/>
    <axis   xyz="0 0 1"/>
    <limit lower="-1.22173" upper="1.22173" effort="100" velocity="4.03833" />
    <dynamics damping="0.2" friction="0" />
  </joint>
  <transmission type="pr2_mechanism_model/SimpleTransmission" name="NECK_Y_trans" >
    <actuator name="NECK_Y_motor" />
    <joint name="NECK_Y" />
    <mechanicalReduction>1</mechanicalReduction>
  </transmission>
  <gazebo reference="NECK_Y">
    <cfmDamping>0.4</cfmDamping>
  </gazebo>
  <joint name="NECK_R" type="revolute">
    <parent link="NECK_Y_LINK"/>
    <child  link="NECK_R_LINK"/>
    <origin xyz="0 0 0" rpy="0 -0 0 "/>
    <axis   xyz="1 0 0"/>
    <limit lower="-0.401426" upper="0.401426" effort="100" velocity="4.03833" />
    <dynamics damping="0.2" friction="0" />
  </joint>
  <transmission type="pr2_mechanism_model/SimpleTransmission" name="NECK_R_trans" >
    <actuator name="NECK_R_motor" />
    <joint name="NECK_R" />
    <mechanicalReduction>1</mechanicalReduction>
  </transmission>
  <gazebo reference="NECK_R">
    <cfmDamping>0.4</cfmDamping>
  </gazebo>
  <joint name="NECK_P" type="revolute">
    <parent link="NECK_R_LINK"/>
    <child  link="NECK_P_LINK"/>
    <origin xyz="0 0 0" rpy="0 -0 0 "/>
    <axis   xyz="0 1 0"/>
    <limit lower="-0.523599" upper="0.436332" effort="100" velocity="4.03833" />
    <dynamics damping="0.2" friction="0" />
  </joint>
  <transmission type="pr2_mechanism_model/SimpleTransmission" name="NECK_P_trans" >
    <actuator name="NECK_P_motor" />
    <joint name="NECK_P" />
    <mechanicalReduction>1</mechanicalReduction>
  </transmission>
  <gazebo reference="NECK_P">
    <cfmDamping>0.4</cfmDamping>
  </gazebo>
  <joint name="CHEEK_P" type="revolute">
    <parent link="NECK_P_LINK"/>
    <child  link="CHEEK_P_LINK"/>
    <origin xyz="-0.0265164 0 0.0255761" rpy="0 -0 0 "/>
    <axis   xyz="0 1 0"/>
    <limit lower="-0.0575959" upper="0" effort="100" velocity="1.83003" />
    <dynamics damping="0.2" friction="0" />
  </joint>
  <transmission type="pr2_mechanism_model/SimpleTransmission" name="CHEEK_P_trans" >
    <actuator name="CHEEK_P_motor" />
    <joint name="CHEEK_P" />
    <mechanicalReduction>1</mechanicalReduction>
  </transmission>
  <gazebo reference="CHEEK_P">
    <cfmDamping>0.4</cfmDamping>
  </gazebo>
  <joint name="EYEBROW_P" type="revolute">
    <parent link="NECK_P_LINK"/>
    <child  link="EYEBROW_P_LINK"/>
    <origin xyz="-0.0357313 0 0.0900806" rpy="0 -0 0 "/>
    <axis   xyz="0 1 0"/>
    <limit lower="-0.0575959" upper="0" effort="100" velocity="2.04963" />
    <dynamics damping="0.2" friction="0" />
  </joint>
  <transmission type="pr2_mechanism_model/SimpleTransmission" name="EYEBROW_P_trans" >
    <actuator name="EYEBROW_P_motor" />
    <joint name="EYEBROW_P" />
    <mechanicalReduction>1</mechanicalReduction>
  </transmission>
  <gazebo reference="EYEBROW_P">
    <cfmDamping>0.4</cfmDamping>
  </gazebo>
  <joint name="EYELID_P" type="revolute">
    <parent link="NECK_P_LINK"/>
    <child  link="EYELID_P_LINK"/>
    <origin xyz="0.082 0.0315 0.0596149" rpy="0 -0 0 "/>
    <axis   xyz="0 1 0"/>
    <limit lower="0" upper="0.575959" effort="100" velocity="15.096" />
    <dynamics damping="0.2" friction="0" />
  </joint>
  <transmission type="pr2_mechanism_model/SimpleTransmission" name="EYELID_P_trans" >
    <actuator name="EYELID_P_motor" />
    <joint name="EYELID_P" />
    <mechanicalReduction>1</mechanicalReduction>
  </transmission>
  <gazebo reference="EYELID_P">
    <cfmDamping>0.4</cfmDamping>
  </gazebo>
  <joint name="EYE_P" type="revolute">
    <parent link="NECK_P_LINK"/>
    <child  link="EYE_P_LINK"/>
    <origin xyz="0.0816179 0.0315 0.0596149" rpy="0 -0 0 "/>
    <axis   xyz="0 1 0"/>
    <limit lower="-0.165806" upper="0.165806" effort="100" velocity="25.6204" />
    <dynamics damping="0.2" friction="0" />
  </joint>
  <transmission type="pr2_mechanism_model/SimpleTransmission" name="EYE_P_trans" >
    <actuator name="EYE_P_motor" />
    <joint name="EYE_P" />
    <mechanicalReduction>1</mechanicalReduction>
  </transmission>
  <gazebo reference="EYE_P">
    <cfmDamping>0.4</cfmDamping>
  </gazebo>
  <joint name="EYE_Y" type="revolute">
    <parent link="EYE_P_LINK"/>
    <child  link="EYE_Y_LINK"/>
    <origin xyz="0 0 0" rpy="0 -0 0 "/>
    <axis   xyz="0 0 1"/>
    <limit lower="-0.610865" upper="0.610865" effort="100" velocity="12.8102" />
    <dynamics damping="0.2" friction="0" />
  </joint>
  <transmission type="pr2_mechanism_model/SimpleTransmission" name="EYE_Y_trans" >
    <actuator name="EYE_Y_motor" />
    <joint name="EYE_Y" />
    <mechanicalReduction>1</mechanicalReduction>
  </transmission>
  <gazebo reference="EYE_Y">
    <cfmDamping>0.4</cfmDamping>
  </gazebo>
  <joint name="MOUTH_P" type="revolute">
    <parent link="NECK_P_LINK"/>
    <child  link="MOUTH_P_LINK"/>
    <origin xyz="0.0389284 0 0.00507761" rpy="0 -0 0 "/>
    <axis   xyz="0 1 0"/>
    <limit lower="0" upper="0.174533" effort="100" velocity="7.22035" />
    <dynamics damping="0.2" friction="0" />
  </joint>
  <transmission type="pr2_mechanism_model/SimpleTransmission" name="MOUTH_P_trans" >
    <actuator name="MOUTH_P_motor" />
    <joint name="MOUTH_P" />
    <mechanicalReduction>1</mechanicalReduction>
  </transmission>
  <gazebo reference="MOUTH_P">
    <cfmDamping>0.4</cfmDamping>
  </gazebo>
  <joint name="LOWERLIP_P" type="revolute">
    <parent link="MOUTH_P_LINK"/>
    <child  link="LOWERLIP_P_LINK"/>
    <origin xyz="0.0573582 0 -0.0274567" rpy="0 -0 0 "/>
    <axis   xyz="0 1 0"/>
    <limit lower="0" upper="0.436332" effort="100" velocity="36.9631" />
    <dynamics damping="0.2" friction="0" />
  </joint>
  <transmission type="pr2_mechanism_model/SimpleTransmission" name="LOWERLIP_P_trans" >
    <actuator name="LOWERLIP_P_motor" />
    <joint name="LOWERLIP_P" />
    <mechanicalReduction>1</mechanicalReduction>
  </transmission>
  <gazebo reference="LOWERLIP_P">
    <cfmDamping>0.4</cfmDamping>
  </gazebo>
  <joint name="UPPERLIP_P" type="revolute">
    <parent link="NECK_P_LINK"/>
    <child  link="UPPERLIP_P_LINK"/>
    <origin xyz="0.102 0 0.012" rpy="0 -0 0 "/>
    <axis   xyz="0 1 0"/>
    <limit lower="-0.436332" upper="0" effort="100" velocity="49.8857" />
    <dynamics damping="0.2" friction="0" />
  </joint>
  <transmission type="pr2_mechanism_model/SimpleTransmission" name="UPPERLIP_P_trans" >
    <actuator name="UPPERLIP_P_motor" />
    <joint name="UPPERLIP_P" />
    <mechanicalReduction>1</mechanicalReduction>
  </transmission>
  <gazebo reference="UPPERLIP_P">
    <cfmDamping>0.4</cfmDamping>
  </gazebo>
  <joint name="R_SHOULDER_P" type="revolute">
    <parent link="CHEST_Y_LINK"/>
    <child  link="R_SHOULDER_P_LINK"/>
    <origin xyz="-0.04 -0.16 0.285" rpy="0 -0 0 "/>
    <axis   xyz="0 1 0"/>
    <limit lower="-2.56563" upper="1.0472" effort="100" velocity="2.90786" />
    <dynamics damping="0.2" friction="0" />
  </joint>
  <transmission type="pr2_mechanism_model/SimpleTransmission" name="R_SHOULDER_P_trans" >
    <actuator name="R_SHOULDER_P_motor" />
    <joint name="R_SHOULDER_P" />
    <mechanicalReduction>1</mechanicalReduction>
  </transmission>
  <gazebo reference="R_SHOULDER_P">
    <cfmDamping>0.4</cfmDamping>
  </gazebo>
  <joint name="R_SHOULDER_R" type="revolute">
    <parent link="R_SHOULDER_P_LINK"/>
    <child  link="R_SHOULDER_R_LINK"/>
    <origin xyz="0 0 0" rpy="0 -0 0 "/>
    <axis   xyz="1 0 0"/>
    <limit lower="-1.55334" upper="0.174533" effort="100" velocity="2.50925" />
    <dynamics damping="0.2" friction="0" />
  </joint>
  <transmission type="pr2_mechanism_model/SimpleTransmission" name="R_SHOULDER_R_trans" >
    <actuator name="R_SHOULDER_R_motor" />
    <joint name="R_SHOULDER_R" />
    <mechanicalReduction>1</mechanicalReduction>
  </transmission>
  <gazebo reference="R_SHOULDER_R">
    <cfmDamping>0.4</cfmDamping>
  </gazebo>
  <joint name="R_SHOULDER_Y" type="revolute">
    <parent link="R_SHOULDER_R_LINK"/>
    <child  link="R_SHOULDER_Y_LINK"/>
    <origin xyz="0 0 0" rpy="0 -0 0 "/>
    <axis   xyz="0 0 1"/>
    <limit lower="-1.6057" upper="1.6057" effort="100" velocity="5.04791" />
    <dynamics damping="0.2" friction="0" />
  </joint>
  <transmission type="pr2_mechanism_model/SimpleTransmission" name="R_SHOULDER_Y_trans" >
    <actuator name="R_SHOULDER_Y_motor" />
    <joint name="R_SHOULDER_Y" />
    <mechanicalReduction>1</mechanicalReduction>
  </transmission>
  <gazebo reference="R_SHOULDER_Y">
    <cfmDamping>0.4</cfmDamping>
  </gazebo>
  <joint name="R_ELBOW_P" type="revolute">
    <parent link="R_SHOULDER_Y_LINK"/>
    <child  link="R_ELBOW_P_LINK"/>
    <origin xyz="0 0 -0.283" rpy="0 -0 0 "/>
    <axis   xyz="0 1 0"/>
    <limit lower="-2.14675" upper="0.0349066" effort="100" velocity="2.09104" />
    <dynamics damping="0.2" friction="0" />
  </joint>
  <transmission type="pr2_mechanism_model/SimpleTransmission" name="R_ELBOW_P_trans" >
    <actuator name="R_ELBOW_P_motor" />
    <joint name="R_ELBOW_P" />
    <mechanicalReduction>1</mechanicalReduction>
  </transmission>
  <gazebo reference="R_ELBOW_P">
    <cfmDamping>0.4</cfmDamping>
  </gazebo>
  <joint name="R_WRIST_Y" type="revolute">
    <parent link="R_ELBOW_P_LINK"/>
    <child  link="R_WRIST_Y_LINK"/>
    <origin xyz="0 0 0" rpy="-0.174533 0 0 "/>
    <axis   xyz="0 0 1"/>
    <limit lower="-1.6057" upper="1.6057" effort="100" velocity="3.80007" />
    <dynamics damping="0.2" friction="0" />
  </joint>
  <transmission type="pr2_mechanism_model/SimpleTransmission" name="R_WRIST_Y_trans" >
    <actuator name="R_WRIST_Y_motor" />
    <joint name="R_WRIST_Y" />
    <mechanicalReduction>1</mechanicalReduction>
  </transmission>
  <gazebo reference="R_WRIST_Y">
    <cfmDamping>0.4</cfmDamping>
  </gazebo>
  <joint name="R_WRIST_R" type="revolute">
    <parent link="R_WRIST_Y_LINK"/>
    <child  link="R_WRIST_R_LINK"/>
    <origin xyz="0 0 -0.222445" rpy="0 -0 0 "/>
    <axis   xyz="1 0 0"/>
    <limit lower="-1.46608" upper="1.46608" effort="100" velocity="3.80007" />
    <dynamics damping="0.2" friction="0" />
  </joint>
  <transmission type="pr2_mechanism_model/SimpleTransmission" name="R_WRIST_R_trans" >
    <actuator name="R_WRIST_R_motor" />
    <joint name="R_WRIST_R" />
    <mechanicalReduction>1</mechanicalReduction>
  </transmission>
  <gazebo reference="R_WRIST_R">
    <cfmDamping>0.4</cfmDamping>
  </gazebo>
  <joint name="R_HAND_J0" type="revolute">
    <parent link="R_WRIST_R_LINK"/>
    <child  link="R_HAND_J0_LINK"/>
    <origin xyz="0.025 -0.0046 -0.0526" rpy="0 -0 0 "/>
    <axis   xyz="0 0 1"/>
    <limit lower="0" upper="1.5708" effort="100" velocity="14.6402" />
    <dynamics damping="0.2" friction="0" />
  </joint>
  <transmission type="pr2_mechanism_model/SimpleTransmission" name="R_HAND_J0_trans" >
    <actuator name="R_HAND_J0_motor" />
    <joint name="R_HAND_J0" />
    <mechanicalReduction>1</mechanicalReduction>
  </transmission>
  <gazebo reference="R_HAND_J0">
    <cfmDamping>0.4</cfmDamping>
  </gazebo>
  <joint name="R_HAND_J1" type="revolute">
    <parent link="R_WRIST_R_LINK"/>
    <child  link="R_HAND_J1_LINK"/>
    <origin xyz="-0.009 0 -0.0959" rpy="0 -0 0 "/>
    <axis   xyz="1 0 0"/>
    <limit lower="-0.349066" upper="1.5708" effort="100" velocity="16.0127" />
    <dynamics damping="0.2" friction="0" />
  </joint>
  <transmission type="pr2_mechanism_model/SimpleTransmission" name="R_HAND_J1_trans" >
    <actuator name="R_HAND_J1_motor" />
    <joint name="R_HAND_J1" />
    <mechanicalReduction>1</mechanicalReduction>
  </transmission>
  <gazebo reference="R_HAND_J1">
    <cfmDamping>0.4</cfmDamping>
  </gazebo>
  <joint name="L_HIP_Y" type="revolute">
    <parent link="BODY"/>
    <child  link="L_HIP_Y_LINK"/>
    <origin xyz="0 0.0875 0" rpy="0 -0 0 "/>
    <axis   xyz="0 0 1"/>
    <limit lower="-0.785398" upper="0.785398" effort="100" velocity="8.75625" />
    <dynamics damping="0.2" friction="0" />
  </joint>
  <transmission type="pr2_mechanism_model/SimpleTransmission" name="L_HIP_Y_trans" >
    <actuator name="L_HIP_Y_motor" />
    <joint name="L_HIP_Y" />
    <mechanicalReduction>1</mechanicalReduction>
  </transmission>
  <gazebo reference="L_HIP_Y">
    <cfmDamping>0.4</cfmDamping>
  </gazebo>
  <joint name="L_HIP_R" type="revolute">
    <parent link="L_HIP_Y_LINK"/>
    <child  link="L_HIP_R_LINK"/>
    <origin xyz="0 0 0" rpy="0 -0 0 "/>
    <axis   xyz="1 0 0"/>
    <limit lower="-0.436332" upper="0.436332" effort="100" velocity="5.45223" />
    <dynamics damping="0.2" friction="0" />
  </joint>
  <transmission type="pr2_mechanism_model/SimpleTransmission" name="L_HIP_R_trans" >
    <actuator name="L_HIP_R_motor" />
    <joint name="L_HIP_R" />
    <mechanicalReduction>1</mechanicalReduction>
  </transmission>
  <gazebo reference="L_HIP_R">
    <cfmDamping>0.4</cfmDamping>
  </gazebo>
  <joint name="L_HIP_P" type="revolute">
    <parent link="L_HIP_R_LINK"/>
    <child  link="L_HIP_P_LINK"/>
    <origin xyz="0 0 0" rpy="0 -0 0 "/>
    <axis   xyz="0 1 0"/>
    <limit lower="-1.3439" upper="0.418879" effort="100" velocity="5.41837" />
    <dynamics damping="0.2" friction="0" />
  </joint>
  <transmission type="pr2_mechanism_model/SimpleTransmission" name="L_HIP_P_trans" >
    <actuator name="L_HIP_P_motor" />
    <joint name="L_HIP_P" />
    <mechanicalReduction>1</mechanicalReduction>
  </transmission>
  <gazebo reference="L_HIP_P">
    <cfmDamping>0.4</cfmDamping>
  </gazebo>
  <joint name="L_KNEE_P" type="revolute">
    <parent link="L_HIP_P_LINK"/>
    <child  link="L_KNEE_P_LINK"/>
    <origin xyz="0 -0.01905 -0.35" rpy="0 -0 0 "/>
    <axis   xyz="0 1 0"/>
    <limit lower="0.0123544" upper="2.17656" effort="100" velocity="4.05748" />
    <dynamics damping="0.2" friction="0" />
  </joint>
  <transmission type="pr2_mechanism_model/SimpleTransmission" name="L_KNEE_P_trans" >
    <actuator name="L_KNEE_P_motor" />
    <joint name="L_KNEE_P" />
    <mechanicalReduction>1</mechanicalReduction>
  </transmission>
  <gazebo reference="L_KNEE_P">
    <cfmDamping>0.4</cfmDamping>
  </gazebo>
  <joint name="L_ANKLE_P" type="revolute">
    <parent link="L_KNEE_P_LINK"/>
    <child  link="L_ANKLE_P_LINK"/>
    <origin xyz="0 0 -0.341151" rpy="0 -0 0 "/>
    <axis   xyz="0 1 0"/>
    <limit lower="-0.989739" upper="0.266898" effort="100" velocity="4.6285" />
    <dynamics damping="0.2" friction="0" />
  </joint>
  <transmission type="pr2_mechanism_model/SimpleTransmission" name="L_ANKLE_P_trans" >
    <actuator name="L_ANKLE_P_motor" />
    <joint name="L_ANKLE_P" />
    <mechanicalReduction>1</mechanicalReduction>
  </transmission>
  <gazebo reference="L_ANKLE_P">
    <cfmDamping>0.4</cfmDamping>
  </gazebo>
  <joint name="L_ANKLE_R" type="revolute">
    <parent link="L_ANKLE_P_LINK"/>
    <child  link="L_ANKLE_R_LINK"/>
    <origin xyz="0 0 0" rpy="0 -0 0 "/>
    <axis   xyz="1 0 0"/>
    <limit lower="-0.593412" upper="0.593412" effort="100" velocity="9.75325" />
    <dynamics damping="0.2" friction="0" />
  </joint>
  <transmission type="pr2_mechanism_model/SimpleTransmission" name="L_ANKLE_R_trans" >
    <actuator name="L_ANKLE_R_motor" />
    <joint name="L_ANKLE_R" />
    <mechanicalReduction>1</mechanicalReduction>
  </transmission>
  <gazebo reference="L_ANKLE_R">
    <cfmDamping>0.4</cfmDamping>
  </gazebo>
  <joint name="R_HIP_Y" type="revolute">
    <parent link="BODY"/>
    <child  link="R_HIP_Y_LINK"/>
    <origin xyz="0 -0.0875 0" rpy="0 -0 0 "/>
    <axis   xyz="0 0 1"/>
    <limit lower="-0.785398" upper="0.785398" effort="100" velocity="8.75625" />
    <dynamics damping="0.2" friction="0" />
  </joint>
  <transmission type="pr2_mechanism_model/SimpleTransmission" name="R_HIP_Y_trans" >
    <actuator name="R_HIP_Y_motor" />
    <joint name="R_HIP_Y" />
    <mechanicalReduction>1</mechanicalReduction>
  </transmission>
  <gazebo reference="R_HIP_Y">
    <cfmDamping>0.4</cfmDamping>
  </gazebo>
  <joint name="R_HIP_R" type="revolute">
    <parent link="R_HIP_Y_LINK"/>
    <child  link="R_HIP_R_LINK"/>
    <origin xyz="0 0 0" rpy="0 -0 0 "/>
    <axis   xyz="1 0 0"/>
    <limit lower="-0.436332" upper="0.436332" effort="100" velocity="5.45223" />
    <dynamics damping="0.2" friction="0" />
  </joint>
  <transmission type="pr2_mechanism_model/SimpleTransmission" name="R_HIP_R_trans" >
    <actuator name="R_HIP_R_motor" />
    <joint name="R_HIP_R" />
    <mechanicalReduction>1</mechanicalReduction>
  </transmission>
  <gazebo reference="R_HIP_R">
    <cfmDamping>0.4</cfmDamping>
  </gazebo>
  <joint name="R_HIP_P" type="revolute">
    <parent link="R_HIP_R_LINK"/>
    <child  link="R_HIP_P_LINK"/>
    <origin xyz="0 0 0" rpy="0 -0 0 "/>
    <axis   xyz="0 1 0"/>
    <limit lower="-1.3439" upper="0.418879" effort="100" velocity="5.41837" />
    <dynamics damping="0.2" friction="0" />
  </joint>
  <transmission type="pr2_mechanism_model/SimpleTransmission" name="R_HIP_P_trans" >
    <actuator name="R_HIP_P_motor" />
    <joint name="R_HIP_P" />
    <mechanicalReduction>1</mechanicalReduction>
  </transmission>
  <gazebo reference="R_HIP_P">
    <cfmDamping>0.4</cfmDamping>
  </gazebo>
  <joint name="R_KNEE_P" type="revolute">
    <parent link="R_HIP_P_LINK"/>
    <child  link="R_KNEE_P_LINK"/>
    <origin xyz="0 0.01905 -0.35" rpy="0 -0 0 "/>
    <axis   xyz="0 1 0"/>
    <limit lower="0.0123544" upper="2.17656" effort="100" velocity="4.05748" />
    <dynamics damping="0.2" friction="0" />
  </joint>
  <transmission type="pr2_mechanism_model/SimpleTransmission" name="R_KNEE_P_trans" >
    <actuator name="R_KNEE_P_motor" />
    <joint name="R_KNEE_P" />
    <mechanicalReduction>1</mechanicalReduction>
  </transmission>
  <gazebo reference="R_KNEE_P">
    <cfmDamping>0.4</cfmDamping>
  </gazebo>
  <joint name="R_ANKLE_P" type="revolute">
    <parent link="R_KNEE_P_LINK"/>
    <child  link="R_ANKLE_P_LINK"/>
    <origin xyz="0 0 -0.341151" rpy="0 -0 0 "/>
    <axis   xyz="0 1 0"/>
    <limit lower="-0.989739" upper="0.266898" effort="100" velocity="4.6285" />
    <dynamics damping="0.2" friction="0" />
  </joint>
  <transmission type="pr2_mechanism_model/SimpleTransmission" name="R_ANKLE_P_trans" >
    <actuator name="R_ANKLE_P_motor" />
    <joint name="R_ANKLE_P" />
    <mechanicalReduction>1</mechanicalReduction>
  </transmission>
  <gazebo reference="R_ANKLE_P">
    <cfmDamping>0.4</cfmDamping>
  </gazebo>
  <joint name="R_ANKLE_R" type="revolute">
    <parent link="R_ANKLE_P_LINK"/>
    <child  link="R_ANKLE_R_LINK"/>
    <origin xyz="0 0 0" rpy="0 -0 0 "/>
    <axis   xyz="1 0 0"/>
    <limit lower="-0.593412" upper="0.593412" effort="100" velocity="9.75325" />
    <dynamics damping="0.2" friction="0" />
  </joint>
  <transmission type="pr2_mechanism_model/SimpleTransmission" name="R_ANKLE_R_trans" >
    <actuator name="R_ANKLE_R_motor" />
    <joint name="R_ANKLE_R" />
    <mechanicalReduction>1</mechanicalReduction>
  </transmission>
  <gazebo reference="R_ANKLE_R">
    <cfmDamping>0.4</cfmDamping>
  </gazebo>
</robot>
